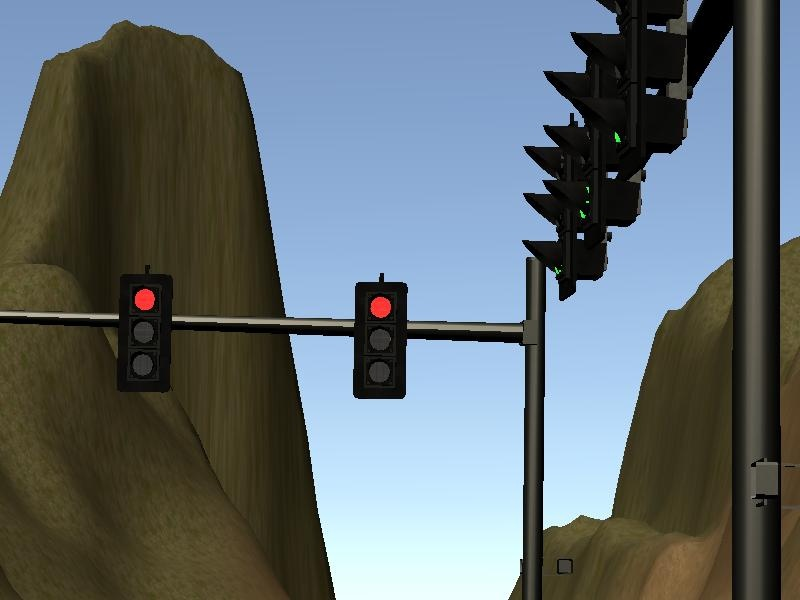red: (119, 274, 172, 395), (355, 282, 408, 401)
